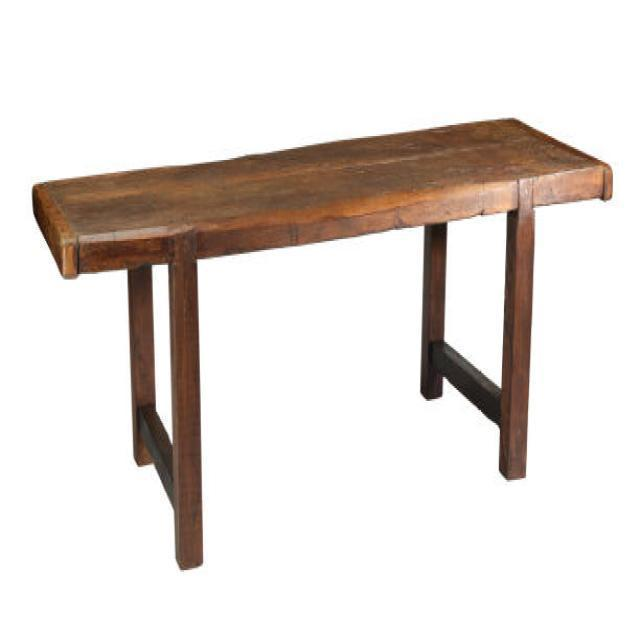table: (31, 114, 613, 568)
